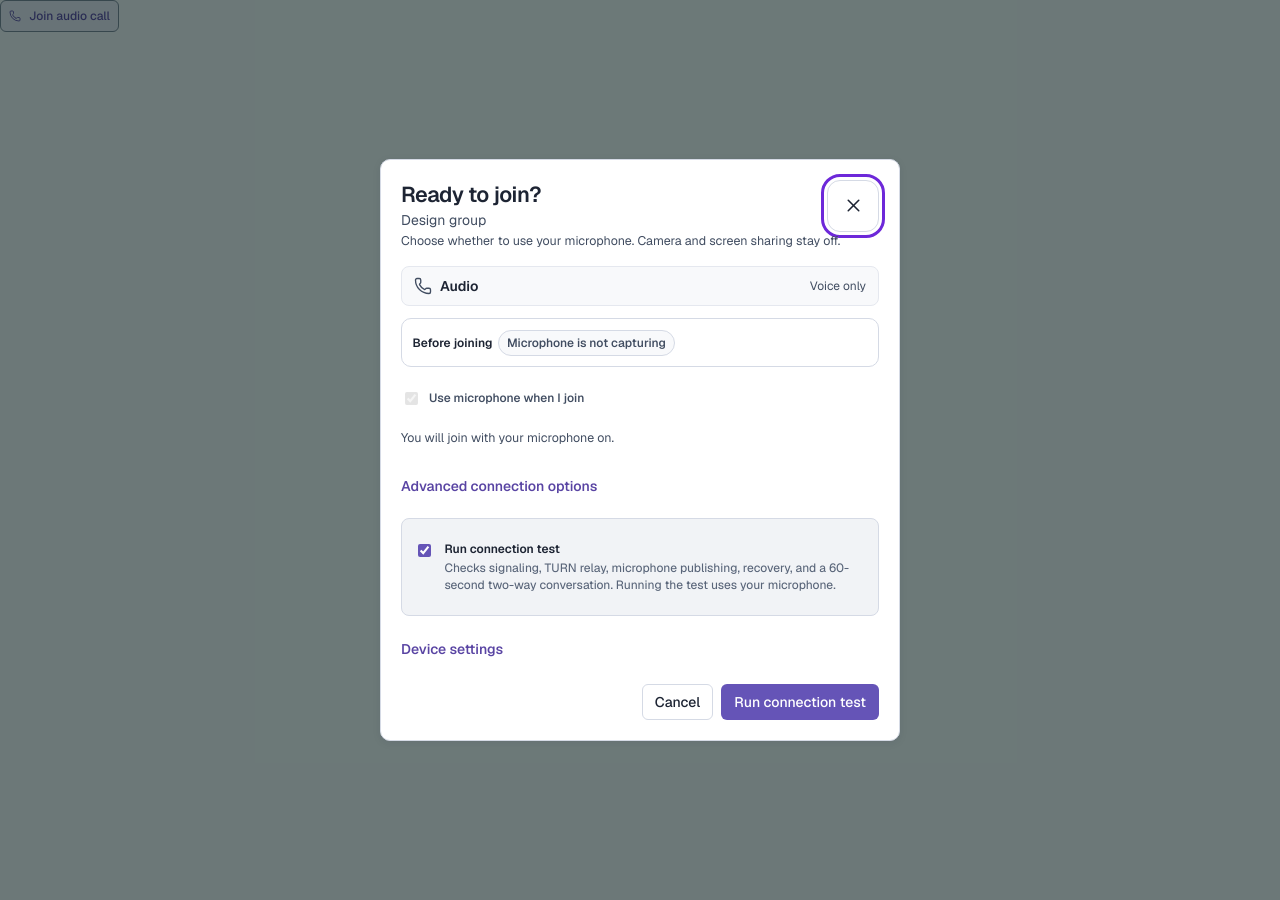
CallPanel calls › runs the connection preflight and forces relay for a readiness launch
expect the checkbox labelled "Run connection test" is checked: met, box [418, 544, 431, 557]
expect the checkbox labelled "Use microphone when I join" is disabled: met, box [405, 392, 418, 405]
Click the button "Run connection test": [800, 702] box [721, 684, 879, 720]
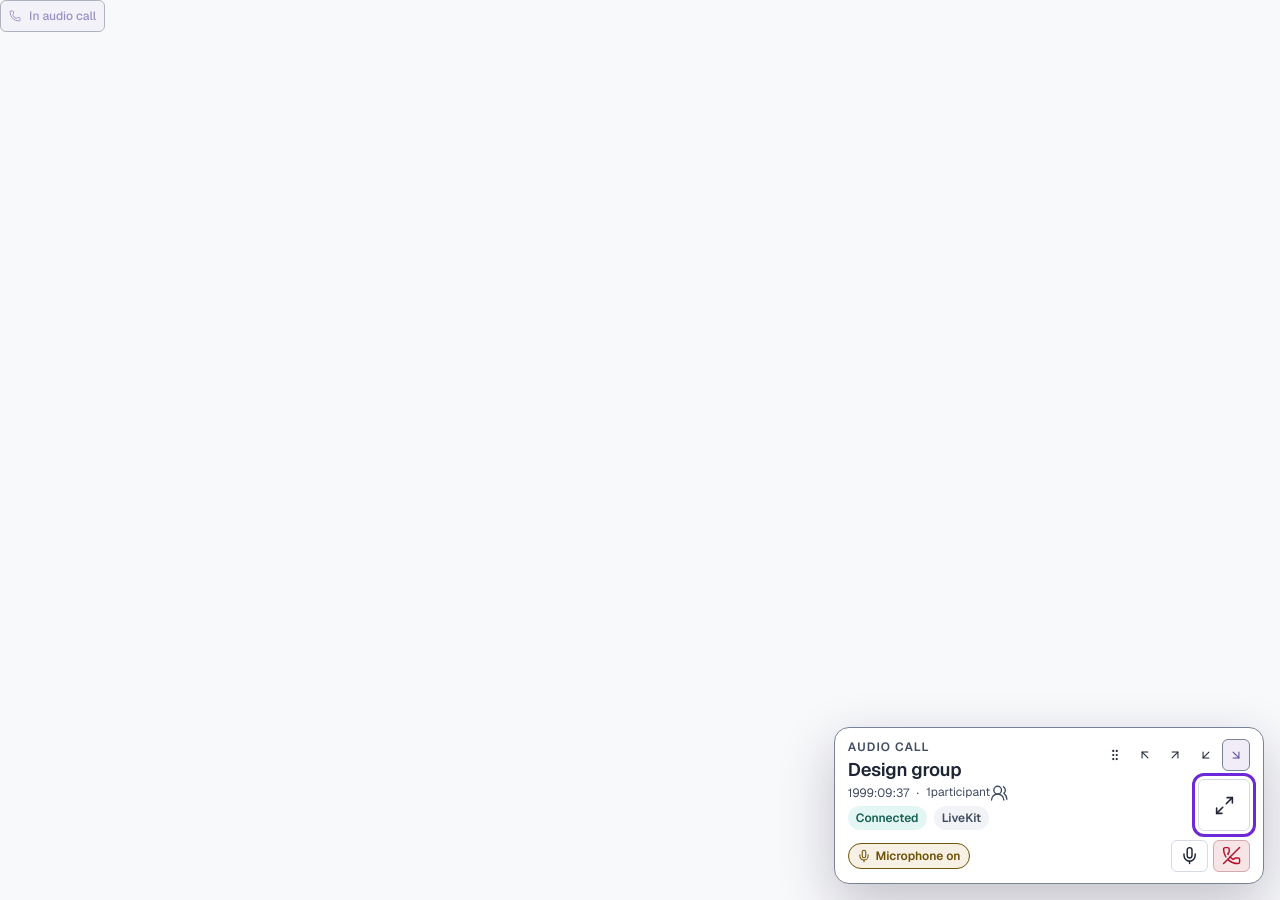
expect the text "Connected" is shown: met, box [848, 806, 927, 830]
